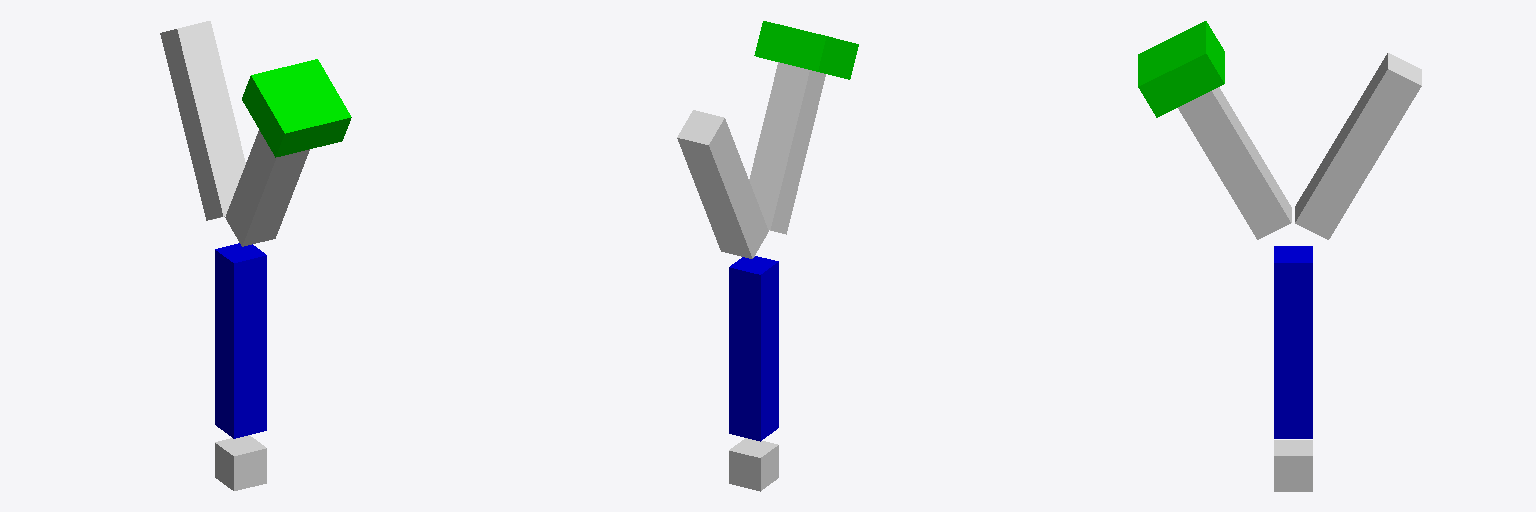
URDF robot description (simple_closed_chain_robot):
<?xml version="1.0" ?>

<robot name="simple_closed_chain_robot">

<link name="base_link">
    <visual>
        <origin rpy="0 0 0" xyz="0 0 0"/>
        <geometry>
            <box size="0.1 0.1 0.1"/>
        </geometry>
        <material name="">
            <color rgba="0.9 0.9 0.9 1"/>
        </material>
    </visual>
    <collision>
        <origin rpy="0 0 0" xyz="0 0 0"/>
        <geometry>
            <box size="0.01 0.01 0.01"/>
        </geometry>
    </collision>
</link>


  <joint name="chain_1_active_joint_1" type="revolute">
    <origin rpy="0 0 0" xyz="0 0 0.0"/>
    <parent link="base_link"/>
    <child link="chain_1_link_1"/>
    <axis xyz="1 0 0"/>
    <limit effort="1000" lower="-6.0" upper="6.0" velocity="2.0"/>
  </joint>


<link name="chain_1_link_1">
    <visual>
        <origin rpy="0 0 0" xyz="0 0 0.35"/>
        <geometry>
            <box size="0.1 0.1 0.5"/>
        </geometry>
        <material name="">
            <color rgba="0.0 0.0 0.9 1"/>
        </material>
    </visual>
    <collision>
        <origin rpy="0 0 0" xyz="0 0 0"/>
        <geometry>
            <box size="0.01 0.01 0.01"/>
        </geometry>
    </collision>
</link>


  <joint name="chain_1_mimic_joint_2" type="revolute">
    <origin rpy="0 0 0" xyz="0 0 0.6"/>
    <parent link="chain_1_link_1"/>
    <child link="chain_1_link_2"/>
    <axis xyz="1 0 0"/>
    <limit effort="1000" lower="-6.0" upper="6.0" velocity="2.0"/>
    <mimic joint="chain_1_active_joint_1" multiplier="-1.0" offset="0.5"/>

  </joint>

<link name="chain_1_link_2">
    <visual>
        <origin rpy="0 0 0" xyz="0 0 0.35"/>
        <geometry>
            <box size="0.1 0.1 0.5"/>
        </geometry>
        <material name="">
            <color rgba="0.9 0.9 0.9 1"/>
        </material>
    </visual>
    <collision>
        <origin rpy="0 0 0" xyz="0 0 0"/>
        <geometry>
            <box size="0.01 0.01 0.01"/>
        </geometry>
    </collision>
</link>


<link name="chain_2_link_1">
    <visual>
        <origin rpy="0 0 0" xyz="0 0 0.35"/>
        <geometry>
            <box size="0.1 0.1 0.5"/>
        </geometry>
        <material name="">
            <color rgba="0.9 0.9 0.9 1"/>
        </material>
    </visual>
    <collision>
        <origin rpy="0 0 0" xyz="0 0 0"/>
        <geometry>
            <box size="0.01 0.01 0.01"/>
        </geometry>
    </collision>
</link>


  <joint name="chain_2_mimic_joint_1" type="revolute">
    <origin rpy="0 0 0" xyz="0 0 0.0"/>
    <parent link="base_link"/>
    <child link="chain_2_link_1"/>
    <axis xyz="1 0 0"/>
    <limit effort="1000" lower="-6.0" upper="6.0" velocity="2.0"/>
	<mimic joint="chain_1_active_joint_1" multiplier="-1.0" offset="0"/>
</joint>

<link name="chain_2_link_2">
    <visual>
        <origin rpy="0 0 0" xyz="0 0 0.35"/>
        <geometry>
            <box size="0.1 0.1 0.5"/>
        </geometry>
        <material name="">
            <color rgba="0.9 0.9 0.9 1"/>
        </material>
    </visual>
    <collision>
        <origin rpy="0 0 0" xyz="0 0 0"/>
        <geometry>
            <box size="0.01 0.01 0.01"/>
        </geometry>
    </collision>
</link>

  <joint name="chain_2_mimic_joint_2" type="revolute">
    <origin rpy="0 0 0" xyz="0 0 0.6"/>
    <parent link="chain_2_link_1"/>
    <child link="chain_2_link_2"/>
    <axis xyz="1 0 0"/>
    <limit effort="1000" lower="-6.0" upper="6.0" velocity="2.0"/>
	<mimic joint="chain_1_active_joint_1" multiplier="1.0" offset="-0.5"/>
</joint>
<link name="ee_link">
    <visual>
        <origin rpy="0 0 0" xyz="0 0 0"/>
        <geometry>
            <box size="0.2 0.2 0.1"/>
        </geometry>
        <material name="">
            <color rgba="0.0 0.9 0.0 1"/>
        </material>
    </visual>
    <collision>
        <origin rpy="0 0 0" xyz="0 0 0"/>
        <geometry>
            <box size="0.01 0.01 0.01"/>
        </geometry>
    </collision>
</link>


  <joint name="ee_fixed_joint" type="fixed">
    <origin rpy="0 0 0" xyz="0 0 0.6"/>
    <parent link="chain_1_link_2"/>
    <child link="ee_link"/>
  
</joint>

</robot>

--- Render facts (derived) ---
The picture shows the robot from 3 angles, left to right: view 1: azimuth 30°, elevation 25°; view 2: azimuth 150°, elevation 25°; view 3: azimuth 270°, elevation 25°; orthographic projection.
Robot: simple_closed_chain_robot — 6 links, 5 joints (4 revolute, 1 fixed); root link base_link; default pose: all joints at 0.
Links seen in each view (by area): view 1: chain_1_link_1, chain_2_link_2, ee_link, chain_1_link_2, base_link; view 2: chain_1_link_1, chain_1_link_2, chain_2_link_2, ee_link, base_link; view 3: chain_2_link_2, chain_1_link_1, chain_1_link_2, ee_link, base_link.
Boxes of the visible links, <box> form: chain_1_link_1: <box>215,243,266,438</box>; chain_2_link_2: <box>160,21,245,220</box>; ee_link: <box>242,59,351,157</box>; chain_1_link_2: <box>225,130,309,246</box>; base_link: <box>215,435,266,490</box>; chain_1_link_1: <box>729,256,778,441</box>; chain_1_link_2: <box>749,62,825,234</box>; chain_2_link_2: <box>677,110,768,258</box>; ee_link: <box>754,21,858,79</box>; base_link: <box>729,438,778,491</box>; chain_2_link_2: <box>1295,53,1421,239</box>; chain_1_link_1: <box>1274,246,1312,438</box>; chain_1_link_2: <box>1178,87,1291,239</box>; ee_link: <box>1138,21,1224,117</box>; base_link: <box>1274,440,1312,491</box>.
Size in the robot's own frame: 0.2 by 0.7309 by 1.27 metres.
Geometry: primitives only (box / cylinder / sphere), no mesh files.
